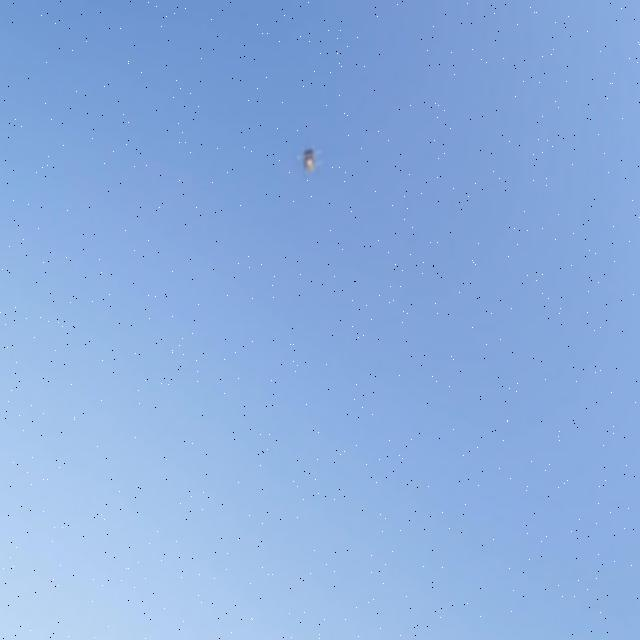UAV: (297, 144, 323, 176)
